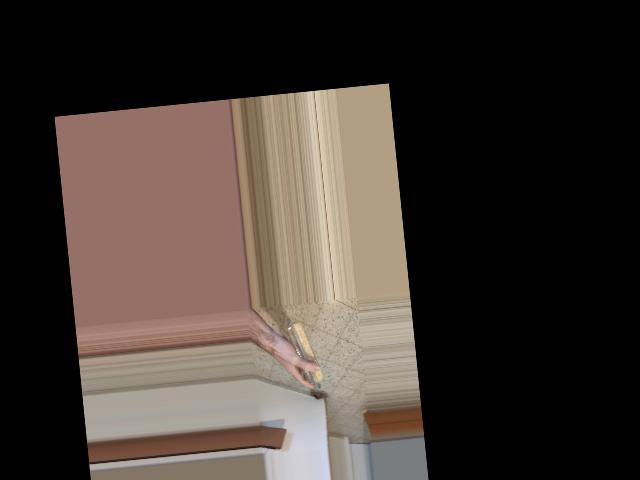cheese: (270, 325, 332, 396)
